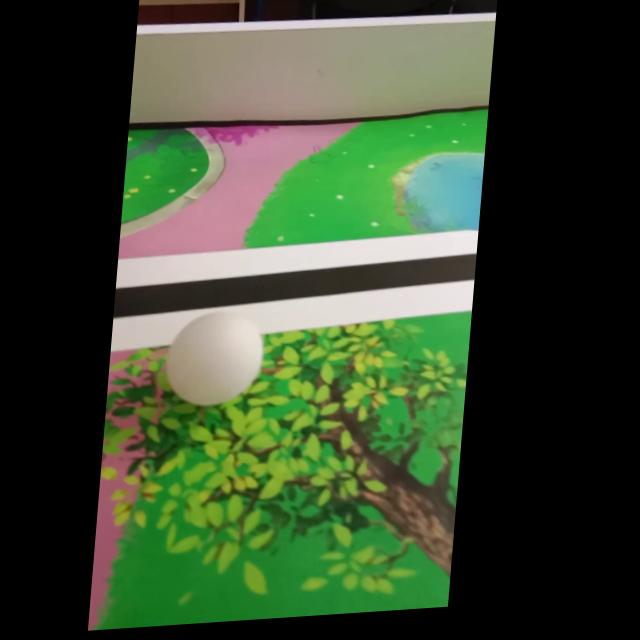white ball: (162, 306, 267, 409)
